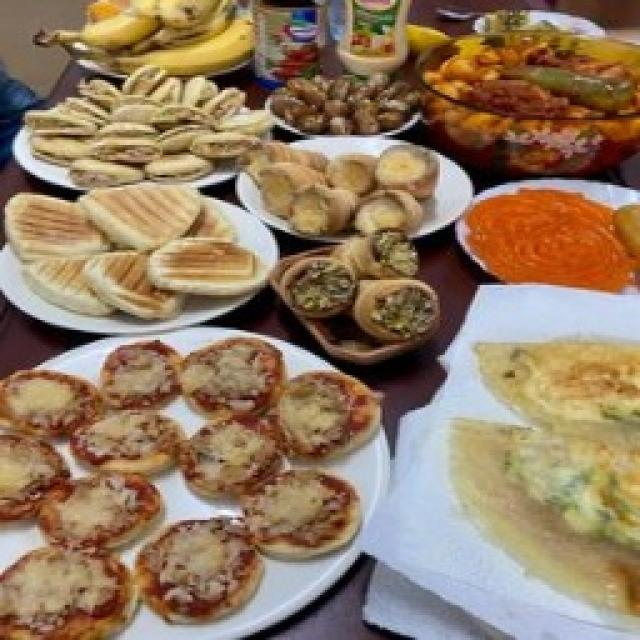Brik: (450, 344, 640, 617)
Pasta: (422, 30, 640, 117)
